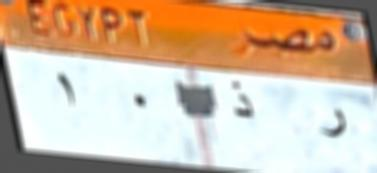0: (117, 80, 154, 118)
1: (48, 70, 88, 117)
raa: (312, 102, 353, 146)
zaal: (221, 78, 258, 126)
